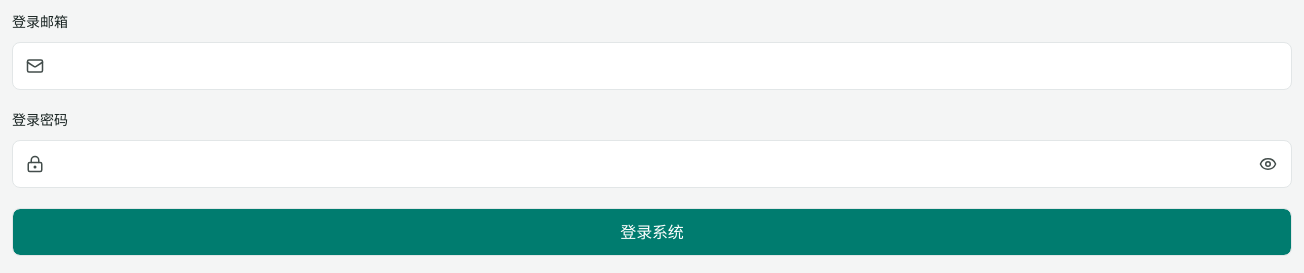
Test: LoginForm › lets the user reveal and hide the password without changing the field value
The image size is (1304, 273).
Type "a-valid-password" into the password field named "password" at (652, 164), box [12,140,1292,188]
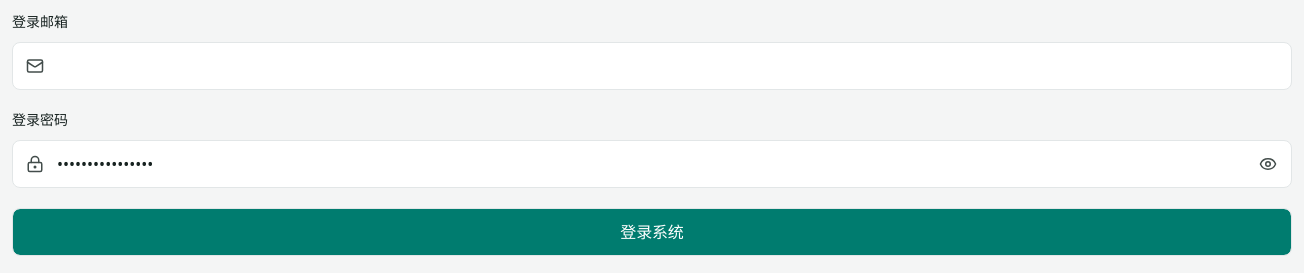
Click the button named "显示密码" at (1268, 164), box [1246,142,1290,186]
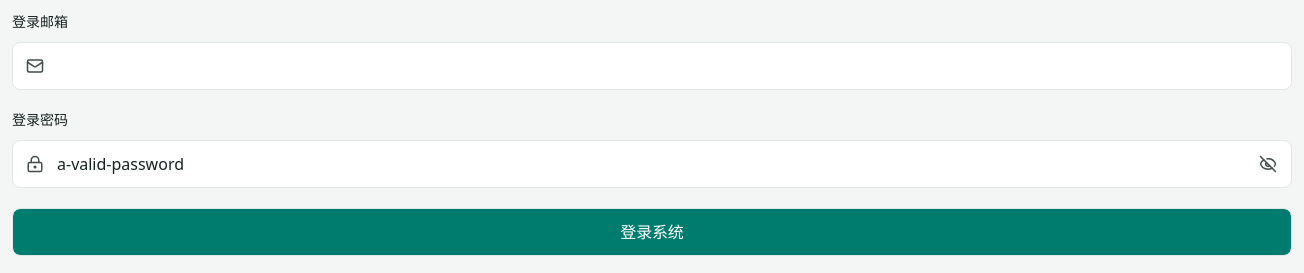
Expected: the field named "password" shows its text, [12,140,1292,188]
Click the button named "隐藏密码" at (1268, 164), box [1246,142,1290,186]
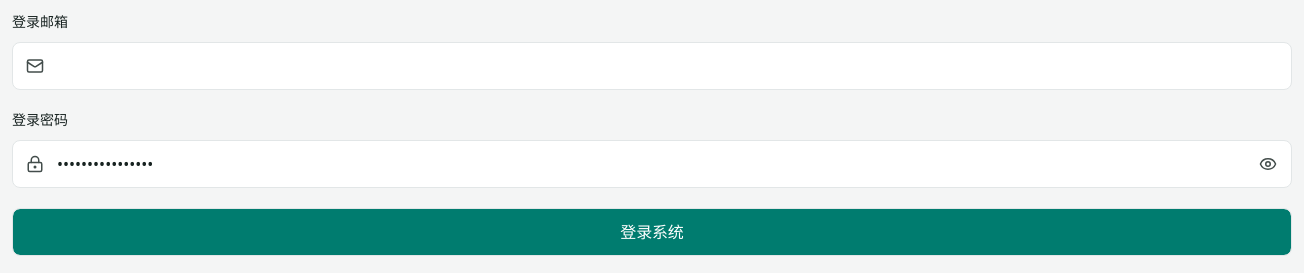
Expected: the password field named "password" hides its text, [12,140,1292,188]
